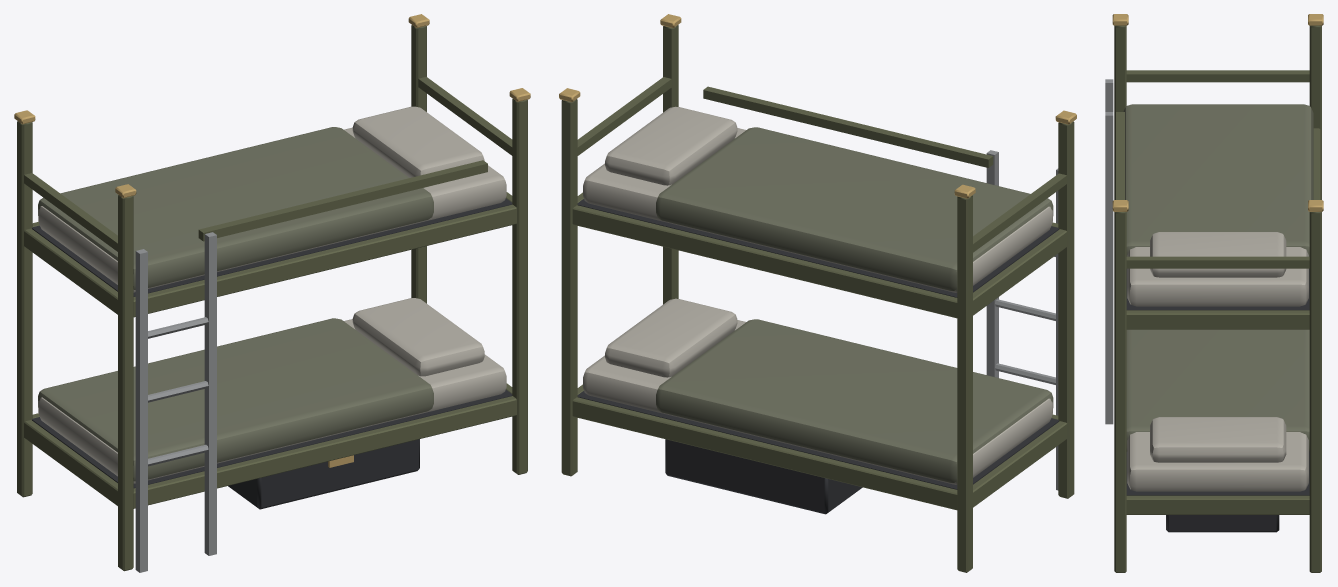
File: int_bunk.glb
3 renders of one model, left to right at view 1: azimuth 30°, elevation 25°; view 2: azimuth 150°, elevation 25°; view 3: azimuth 270°, elevation 25°, orthographic. The views are drawn at different scales.
Visible parts, largest first — view 1: kit_int_bunk_cloth, kit_int_bunk_paint, kit_int_bunk_pale_cloth, kit_int_bunk_dark_metal, kit_int_bunk_metal, kit_int_bunk_trim_metal; view 2: kit_int_bunk_cloth, kit_int_bunk_paint, kit_int_bunk_pale_cloth, kit_int_bunk_dark_metal, kit_int_bunk_metal, kit_int_bunk_trim_metal; view 3: kit_int_bunk_cloth, kit_int_bunk_paint, kit_int_bunk_pale_cloth, kit_int_bunk_dark_metal, kit_int_bunk_metal, kit_int_bunk_trim_metal.
Part boxes in pixels (x1=…): kit_int_bunk_cloth: x1=38, y1=127, x2=433, y2=481; kit_int_bunk_paint: x1=17, y1=25, x2=527, y2=571; kit_int_bunk_pale_cloth: x1=38, y1=106, x2=506, y2=483; kit_int_bunk_dark_metal: x1=32, y1=198, x2=512, y2=509; kit_int_bunk_metal: x1=135, y1=232, x2=216, y2=572; kit_int_bunk_trim_metal: x1=14, y1=14, x2=530, y2=467; kit_int_bunk_cloth: x1=656, y1=127, x2=1053, y2=482; kit_int_bunk_paint: x1=561, y1=25, x2=1074, y2=572; kit_int_bunk_pale_cloth: x1=583, y1=106, x2=1052, y2=484; kit_int_bunk_dark_metal: x1=577, y1=199, x2=1058, y2=514; kit_int_bunk_metal: x1=986, y1=150, x2=1058, y2=490; kit_int_bunk_trim_metal: x1=559, y1=14, x2=1076, y2=198; kit_int_bunk_cloth: x1=1123, y1=104, x2=1313, y2=451; kit_int_bunk_paint: x1=1114, y1=25, x2=1321, y2=572; kit_int_bunk_pale_cloth: x1=1127, y1=232, x2=1308, y2=491; kit_int_bunk_dark_metal: x1=1126, y1=268, x2=1309, y2=532; kit_int_bunk_metal: x1=1105, y1=79, x2=1113, y2=424; kit_int_bunk_trim_metal: x1=1112, y1=14, x2=1323, y2=211.
Size of the model in its own units: 2.01 by 1.79 by 0.9625.
